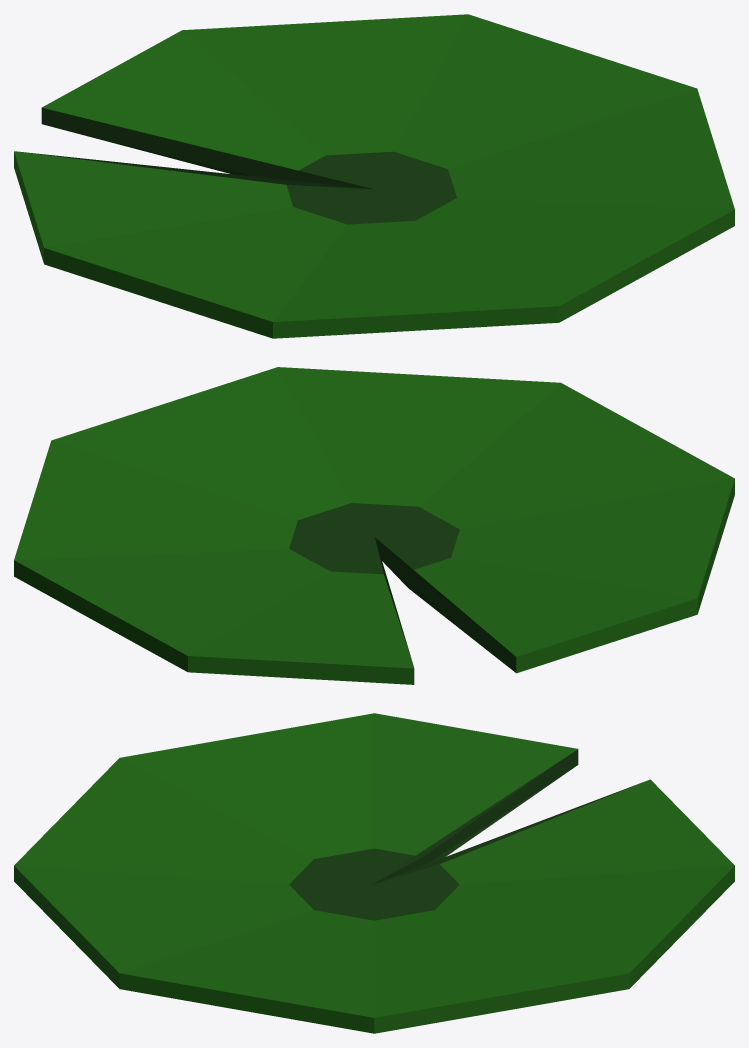
The model's file is super_quick_lilypad.fbx.
3 renders of one model, top to bottom at view 1: azimuth 30°, elevation 25°; view 2: azimuth 150°, elevation 25°; view 3: azimuth 270°, elevation 25°, orthographic. The views are drawn at different scales.
Parts seen in each view (by area): view 1: Lilypad; view 2: Lilypad; view 3: Lilypad.
Boxes of the visible parts, x1=… form: Lilypad: x1=14, y1=14, x2=734, y2=338; Lilypad: x1=14, y1=367, x2=734, y2=684; Lilypad: x1=14, y1=713, x2=734, y2=1033.
Size of the model in its own units: 200 by 10.67 by 200.
